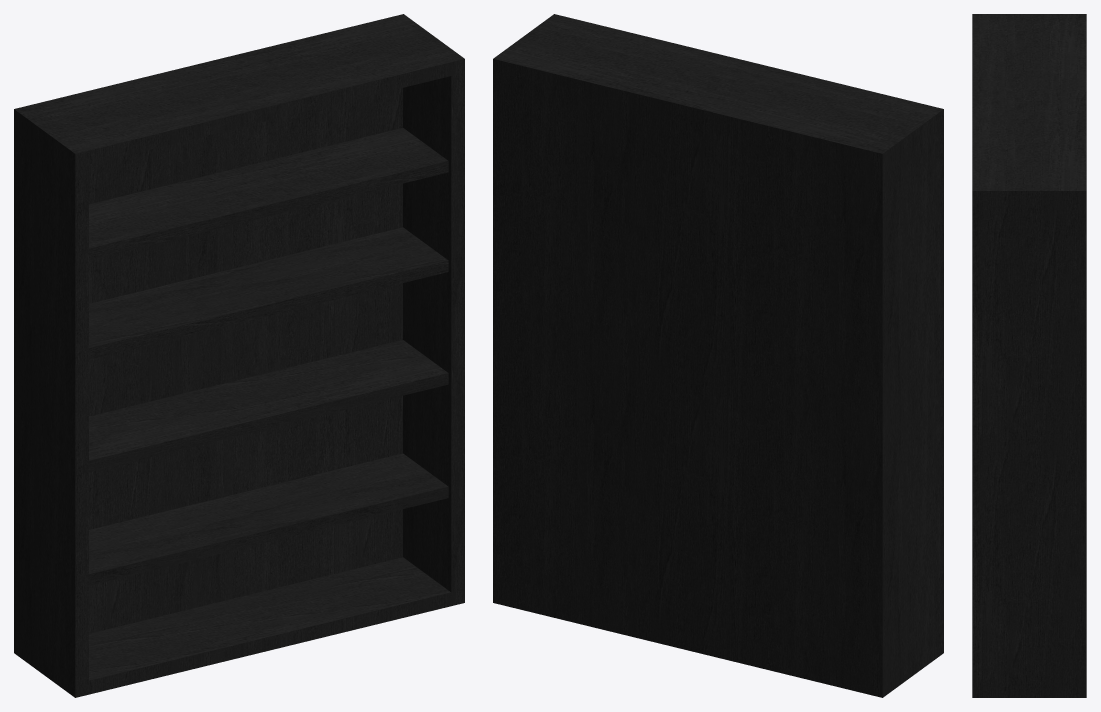
File: FBXshelg.fbx
3 renders of one model, left to right at view 1: azimuth 30°, elevation 25°; view 2: azimuth 150°, elevation 25°; view 3: azimuth 270°, elevation 25°, orthographic. The views are drawn at different scales.
Parts seen in each view (by area): view 1: stand; view 2: stand; view 3: stand.
Boxes of the visible parts, x1,y1,x2,y2 form: stand: (14,14,464,697); stand: (493,14,943,697); stand: (972,14,1086,697).
Size of the model in its own units: 5.12 by 6.84 by 1.4.
Materials: 1 (1 with a texture image).
